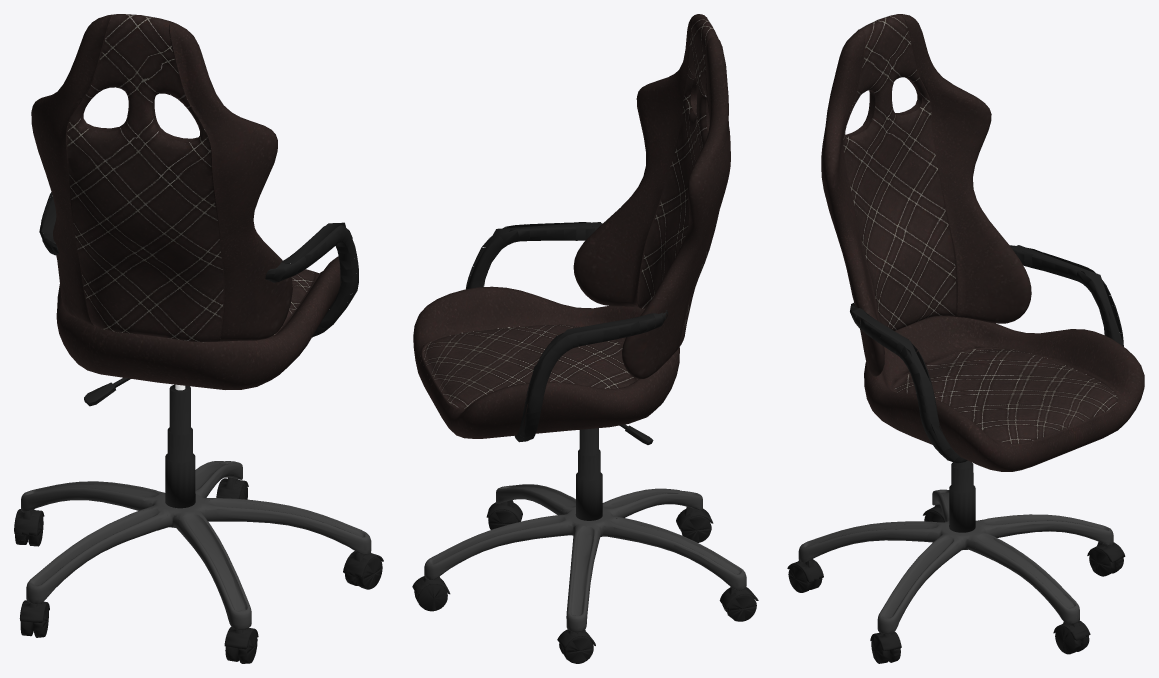
File: gaming_pc_chair.glb
3 renders of one model, left to right at view 1: azimuth 30°, elevation 25°; view 2: azimuth 150°, elevation 25°; view 3: azimuth 270°, elevation 25°, orthographic. The views are drawn at different scales.
Visible parts, largest first — view 1: chair_back, chair_spider, chair_seat, chair_armrest, chair_axis, chair_wheel1.004, chair_wheel_cover1.001, chair_wheel1.003, chair_wheel_cover1.004; view 2: chair_back, chair_seat, chair_spider, chair_armrest, chair_axis, chair_wheel1, chair_wheel1.001, chair_wheel1.002, chair_wheel1.003; view 3: chair_back, chair_seat, chair_spider, chair_armrest, chair_axis, chair_wheel1.001, chair_wheel1, chair_wheel1.003.
Boxes of the visible parts, <box> form: chair_back: <box>31,14,292,342</box>; chair_spider: <box>21,461,371,629</box>; chair_seat: <box>56,256,341,389</box>; chair_armrest: <box>39,192,358,337</box>; chair_axis: <box>165,384,195,508</box>; chair_wheel1.004: <box>344,556,382,589</box>; chair_wheel_cover1.001: <box>14,509,44,535</box>; chair_wheel1.003: <box>225,630,257,663</box>; chair_wheel_cover1.004: <box>343,551,383,577</box>; chair_back: <box>573,14,730,378</box>; chair_seat: <box>413,286,679,438</box>; chair_spider: <box>424,484,746,632</box>; chair_armrest: <box>466,222,667,442</box>; chair_axis: <box>575,428,602,520</box>; chair_wheel1: <box>414,584,447,611</box>; chair_wheel1.001: <box>559,636,593,663</box>; chair_wheel1.002: <box>722,594,756,621</box>; chair_wheel1.003: <box>680,516,711,542</box>; chair_back: <box>821,14,1031,376</box>; chair_seat: <box>864,316,1144,471</box>; chair_spider: <box>798,489,1113,634</box>; chair_armrest: <box>850,245,1123,463</box>; chair_axis: <box>949,460,975,532</box>; chair_wheel1.001: <box>1089,546,1123,576</box>; chair_wheel1: <box>1055,626,1089,654</box>; chair_wheel1.003: <box>788,564,822,592</box>.
Bounding box in the file's own units: 0.8756 × 1.47 × 0.8694.
5 materials, 2 textured.
